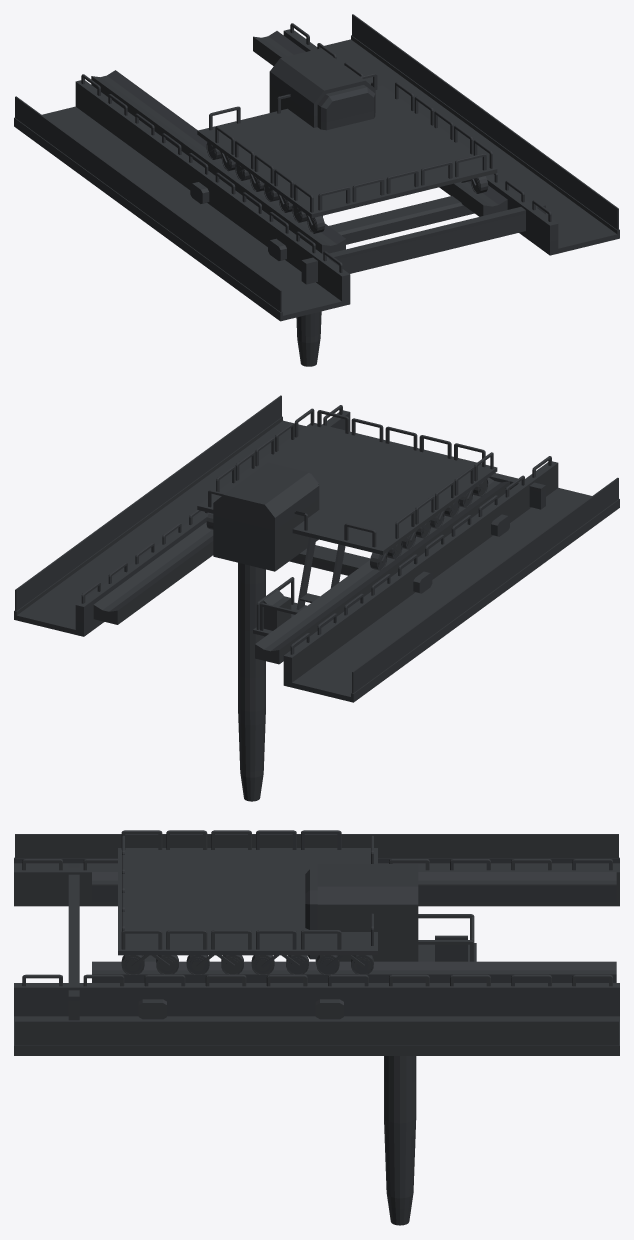
The model's file is handling.obj.
The picture shows the model from 3 angles, top to bottom: view 1: azimuth 30°, elevation 25°; view 2: azimuth 150°, elevation 25°; view 3: azimuth 270°, elevation 25°; orthographic projection. The views are drawn at different scales.
Parts seen in each view (by area): view 1: fuel; view 2: fuel; view 3: fuel.
Boxes of the visible parts, x1,y1,x2,y2 form: fuel: [14, 14, 619, 366]; fuel: [14, 395, 619, 801]; fuel: [14, 830, 619, 1225].
Size of the model in its own units: 11.03 by 9.45 by 14.99.
1 material, 1 textured.
